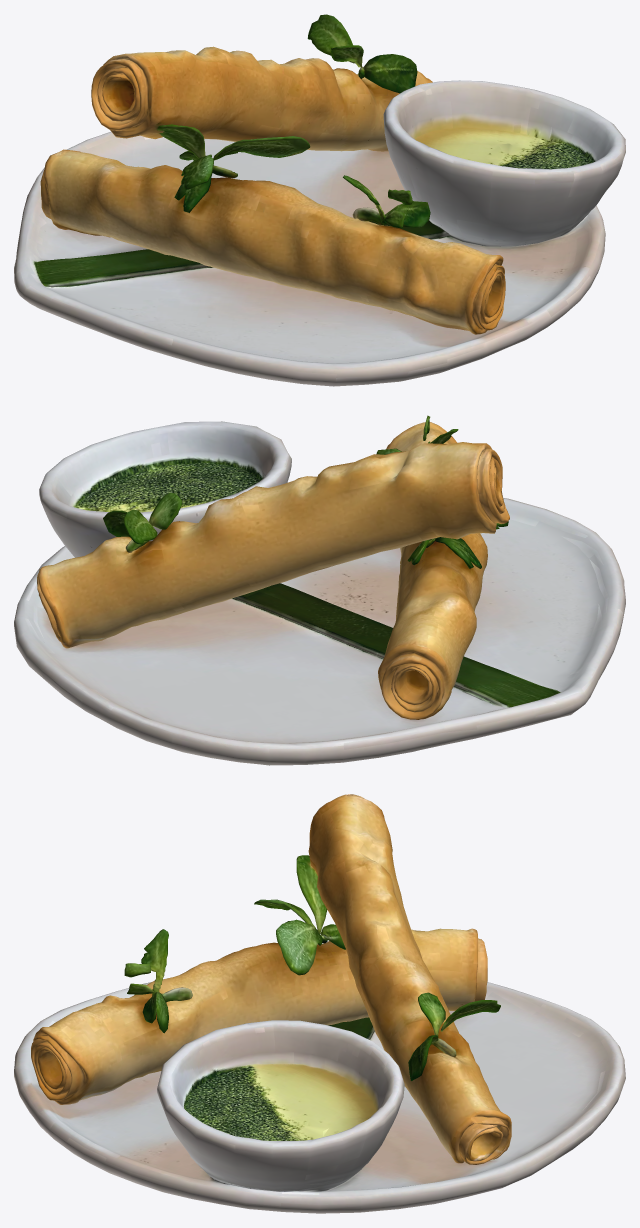
Rendered from spring-rolls.glb.
The picture shows the model from 3 angles, top to bottom: view 1: azimuth 30°, elevation 25°; view 2: azimuth 150°, elevation 25°; view 3: azimuth 270°, elevation 25°; orthographic projection. The views are drawn at different scales.
Visible parts, largest first — view 1: tripo_node_e25c2720; view 2: tripo_node_e25c2720; view 3: tripo_node_e25c2720.
Boxes of the visible parts, box(x1,y1,x2,y2) form: tripo_node_e25c2720: box(14, 14, 625, 386); tripo_node_e25c2720: box(14, 415, 625, 765); tripo_node_e25c2720: box(14, 794, 625, 1213).
Size of the model in its own units: 0.21 by 0.0881 by 0.2096.
Materials: 1 (1 with a texture image).
